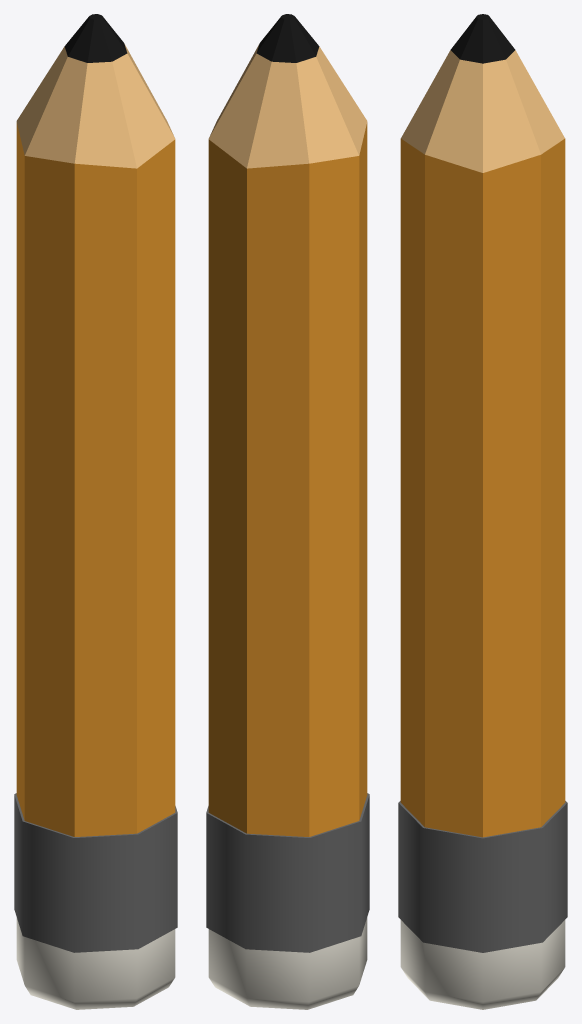
File: pencil.fbx
The picture shows the model from 3 angles, left to right: view 1: azimuth 30°, elevation 25°; view 2: azimuth 150°, elevation 25°; view 3: azimuth 270°, elevation 25°; orthographic projection.
Parts seen in each view (by area): view 1: pencil; view 2: pencil; view 3: pencil.
Boxes of the visible parts, box(x1,y1,x2,y2) form: pencil: box(14, 14, 177, 1009); pencil: box(206, 14, 369, 1009); pencil: box(398, 14, 567, 1009).
Size of the model in its own units: 0.246 by 1.55 by 0.246.
